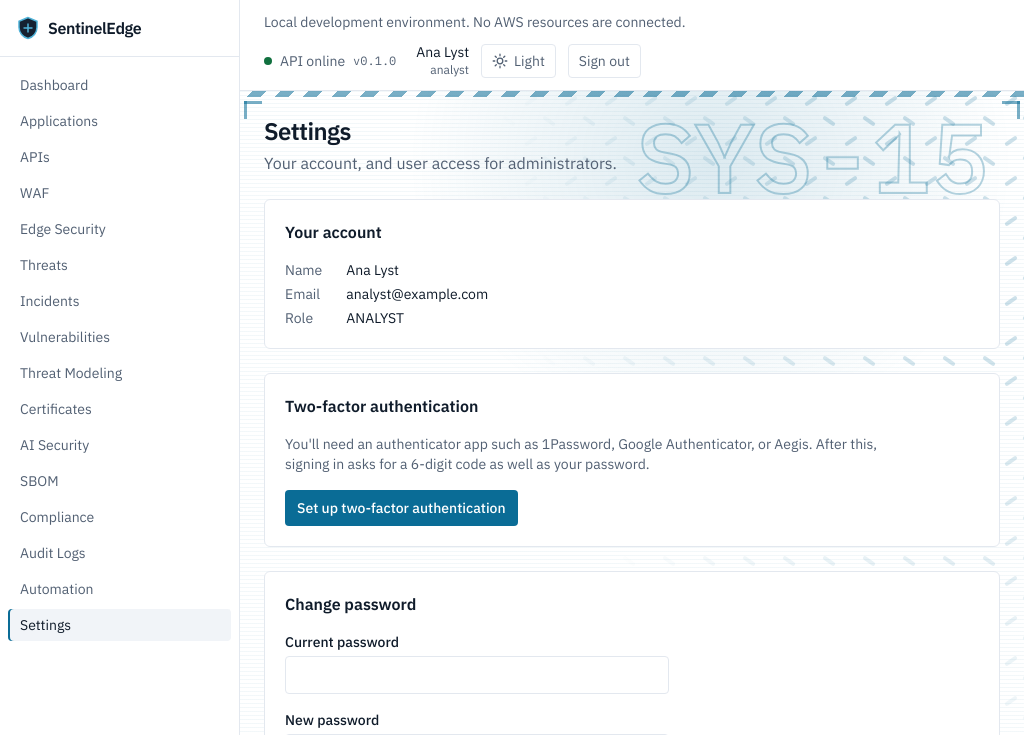
it: theme toggle › switches back and says so if the choice cannot be saved
Expected: the text "API online v0.1.0" is shown, [264,51,396,71]
Step 1. Click the switch named "Dark theme" → x=518, y=61, box [481,44,556,78]
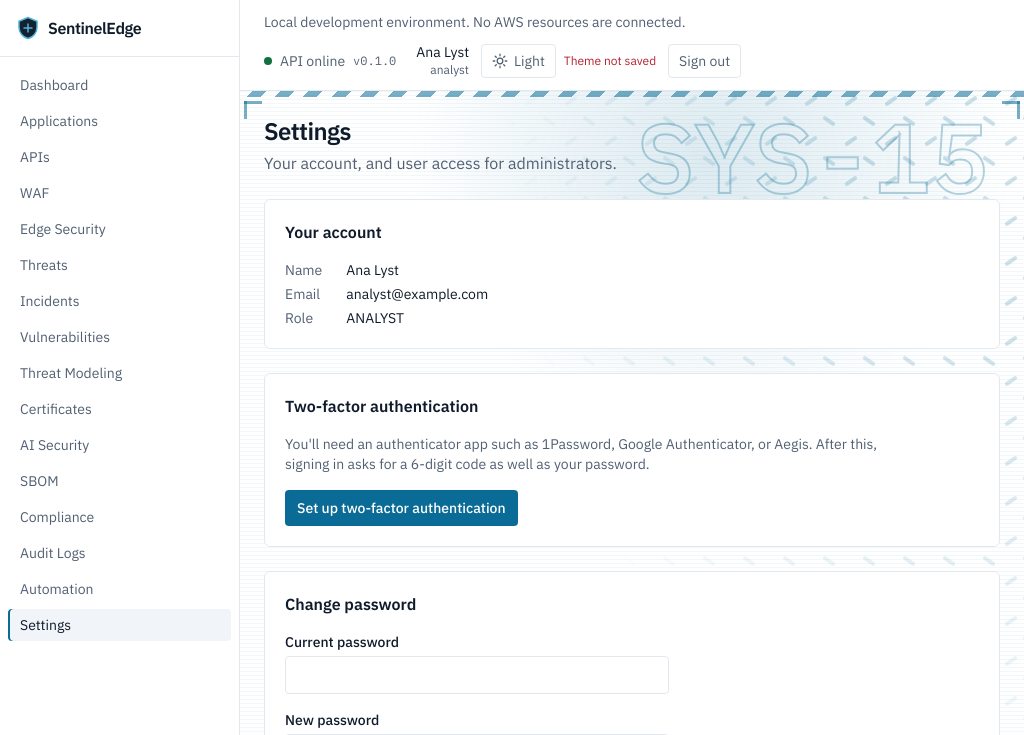
Expected: the message "Theme not saved" is shown, [564,53,656,69]
